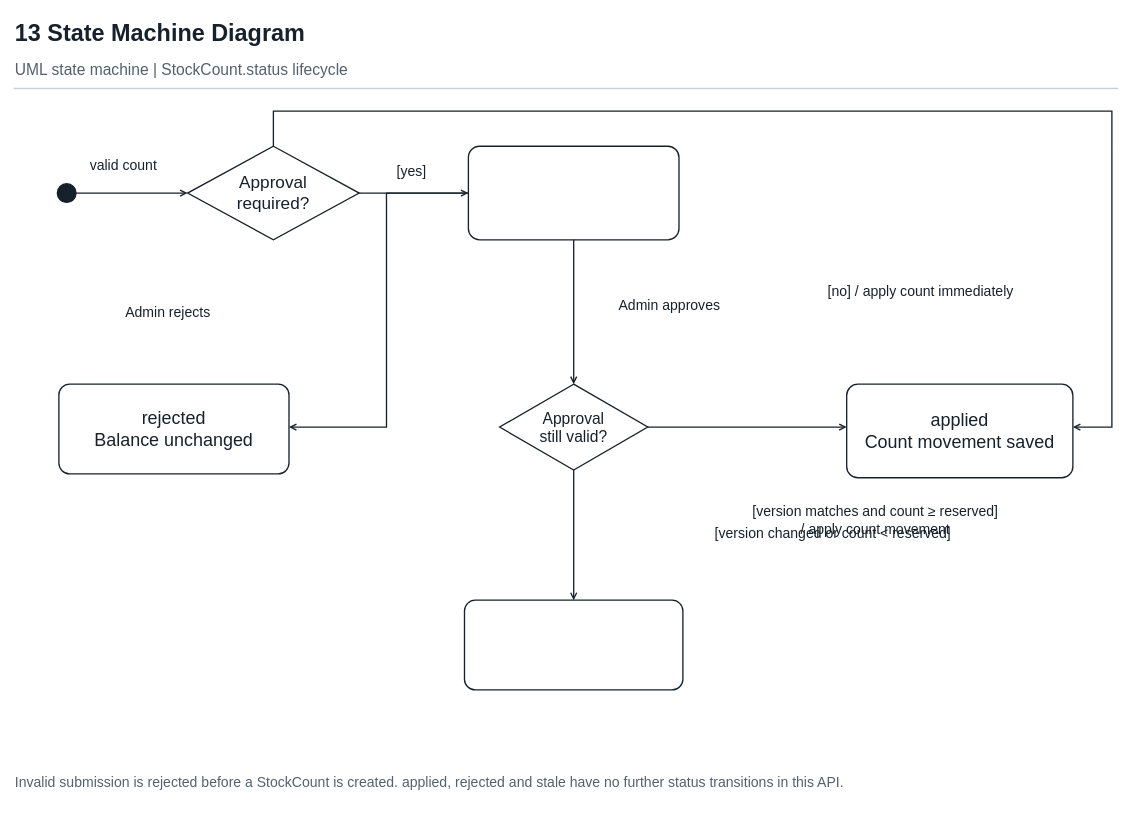
The diagram is 1133 pixels wide and 815 high, and some of its shapes have lost their labels. Each missing label, with the centre of its shape:
"pending Balance unchanged" belongs at (573,192).
"stale New count required" belongs at (573,644).
